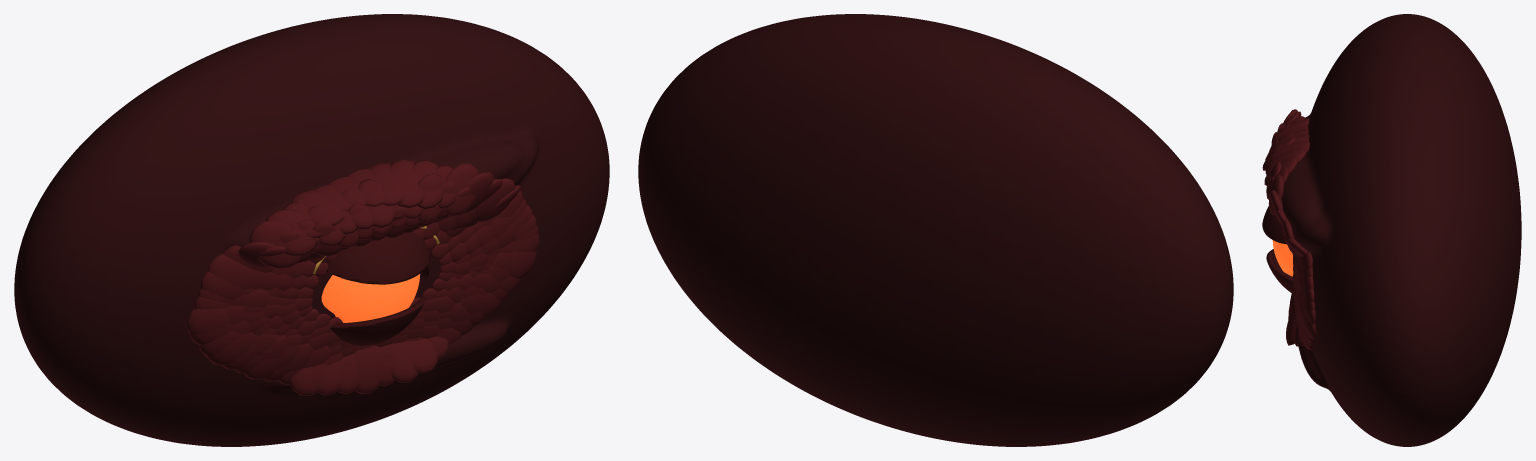
The model's file is eye.glb.
3 views of the same model, side by side, from view 1: azimuth 30°, elevation 25°; view 2: azimuth 150°, elevation 25°; view 3: azimuth 270°, elevation 25° (orthographic). The views are drawn at different scales.
Parts seen in each view (by area): view 1: Face, LidUpper, Eyeball, LidLower; view 2: Face; view 3: Face, LidUpper, Eyeball, LidLower.
Part boxes in pixels (box(x1,y1,x2,y2)): Face: box(14, 14, 609, 446); LidUpper: box(326, 231, 430, 284); Eyeball: box(321, 274, 420, 322); LidLower: box(330, 297, 425, 345); Face: box(638, 14, 1233, 446); Face: box(1262, 14, 1521, 446); LidUpper: box(1262, 206, 1286, 244); Eyeball: box(1272, 240, 1293, 276); LidLower: box(1266, 249, 1293, 293).
Bounding box in the file's own units: 10.38 × 6.8 × 4.53.
